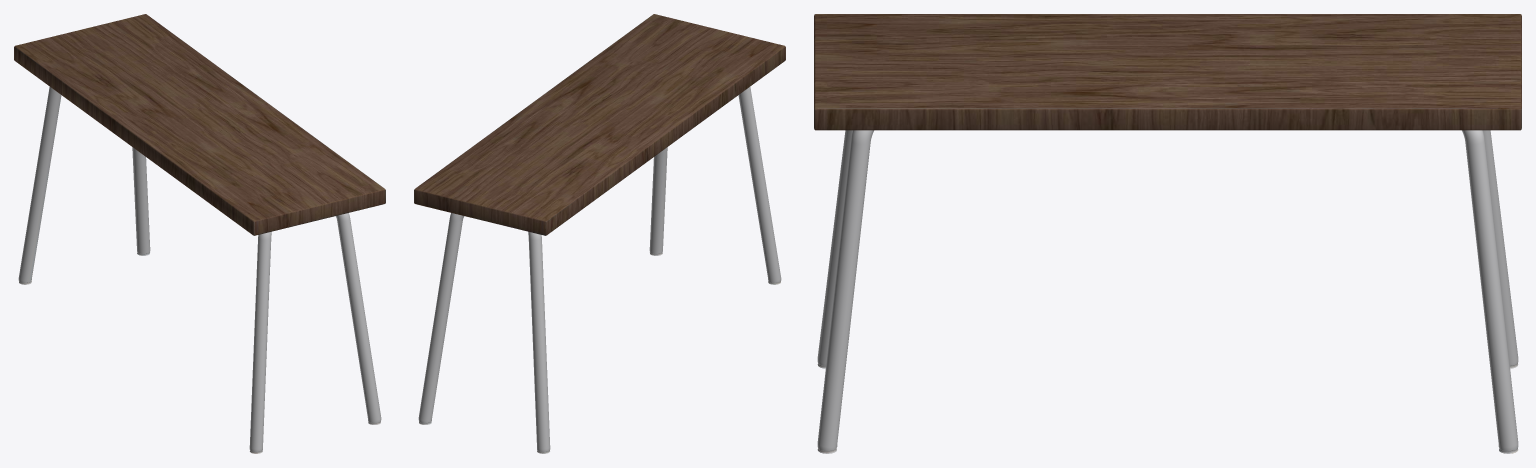
File: Desk01.glb
The picture shows the model from 3 angles, left to right: view 1: azimuth 30°, elevation 25°; view 2: azimuth 150°, elevation 25°; view 3: azimuth 270°, elevation 25°; orthographic projection. The views are drawn at different scales.
Parts seen in each view (by area): view 1: deskTopp, Object_2; view 2: deskTopp, Object_2; view 3: deskTopp, Object_2.
Part boxes in pixels (left/top/right/bottom): deskTopp: left=14, top=14, right=385, bottom=235; Object_2: left=18, top=87, right=381, bottom=453; deskTopp: left=414, top=14, right=785, bottom=235; Object_2: left=418, top=87, right=781, bottom=453; deskTopp: left=814, top=14, right=1521, bottom=130; Object_2: left=817, top=130, right=1518, bottom=453.
Bounding box in the file's own units: 0.6365 × 1.08 × 2.
Materials: 1 (1 with a texture image).
